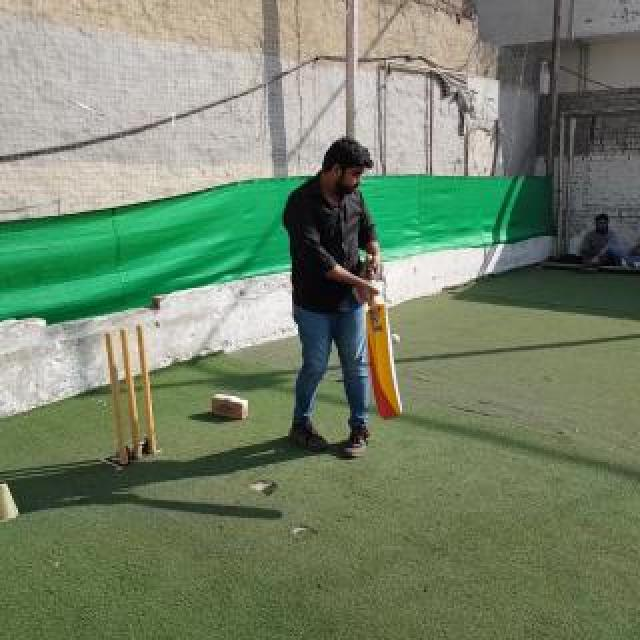ball: (391, 333, 399, 343)
bat: (365, 255, 403, 419)
